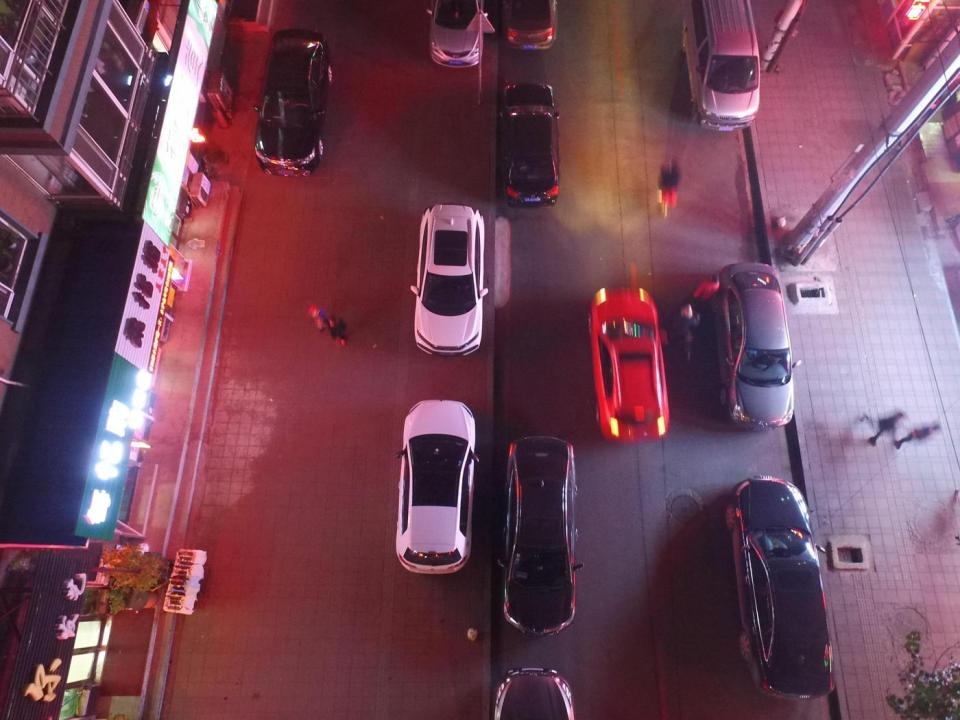car: (728, 475, 837, 702), (501, 437, 580, 632), (714, 262, 797, 426), (586, 287, 670, 439), (402, 400, 472, 574), (252, 26, 328, 176), (415, 201, 483, 354), (501, 82, 560, 209), (494, 666, 576, 718), (429, 1, 487, 72), (502, 1, 556, 52)
van: (684, 0, 762, 132)
